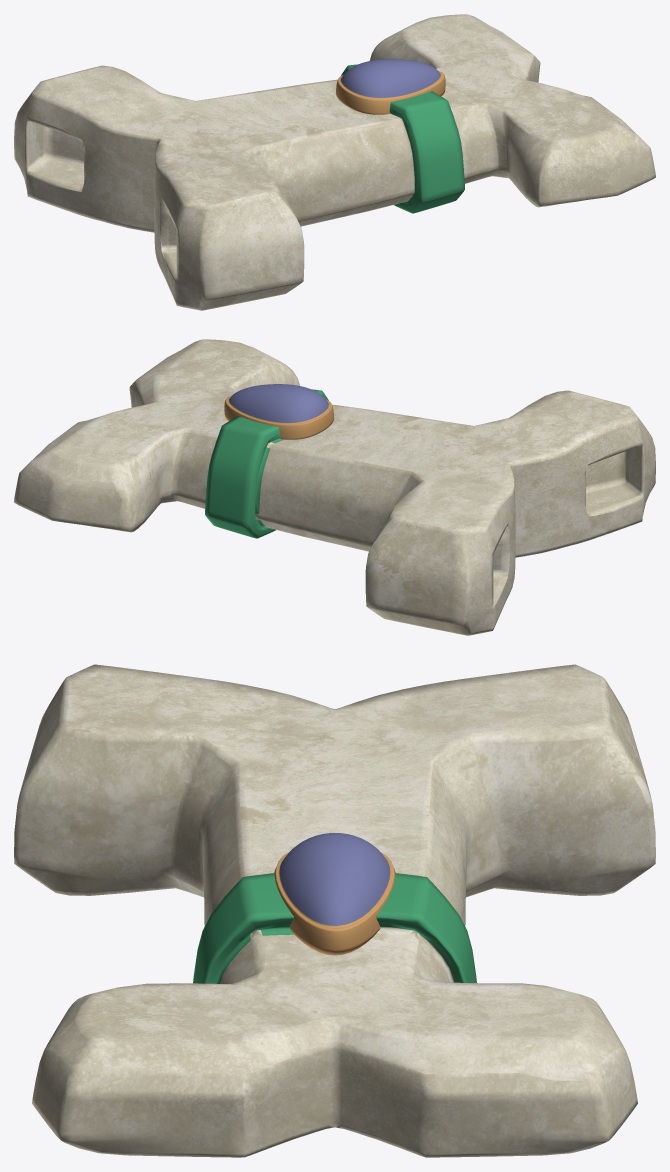
Rendered from dogShip.fbx.
3 renders of one model, top to bottom at view 1: azimuth 30°, elevation 25°; view 2: azimuth 150°, elevation 25°; view 3: azimuth 270°, elevation 25°, orthographic. The views are drawn at different scales.
Visible parts, largest first — view 1: boneDupllicated, glass.duped; view 2: boneDupllicated, glass.duped; view 3: boneDupllicated, glass.duped.
Part boxes in pixels (left/top/right/bottom): boneDupllicated: left=14, top=14, right=655, bottom=310; glass.duped: left=336, top=59, right=445, bottom=114; boneDupllicated: left=14, top=339, right=655, bottom=635; glass.duped: left=224, top=384, right=333, bottom=439; boneDupllicated: left=14, top=664, right=655, bottom=1157; glass.duped: left=274, top=833, right=395, bottom=955.
Size of the model in its own units: 468 by 118 by 353.
